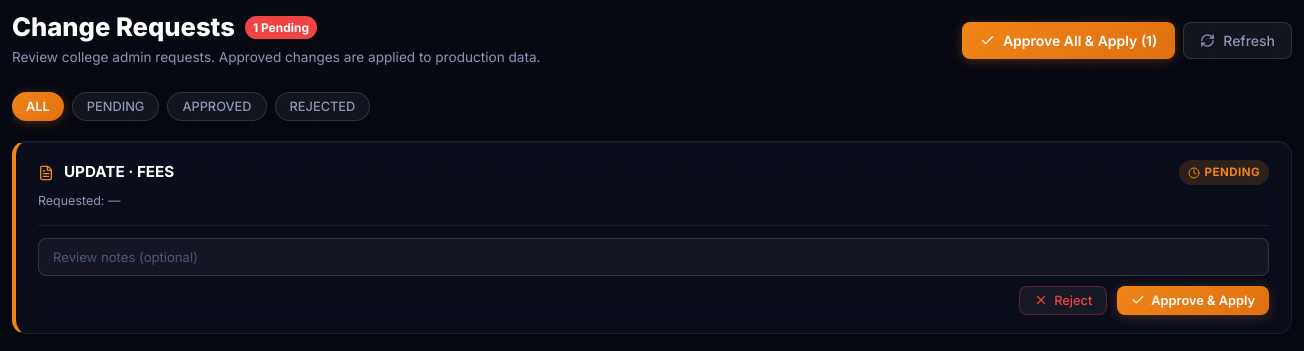
Scenario: ChangeRequestsView review controls › submits the exact approval API with the request id and refreshes processed state
Click the button "Approve & Apply". click: click(1193, 300)
box: [1117,286,1269,315]
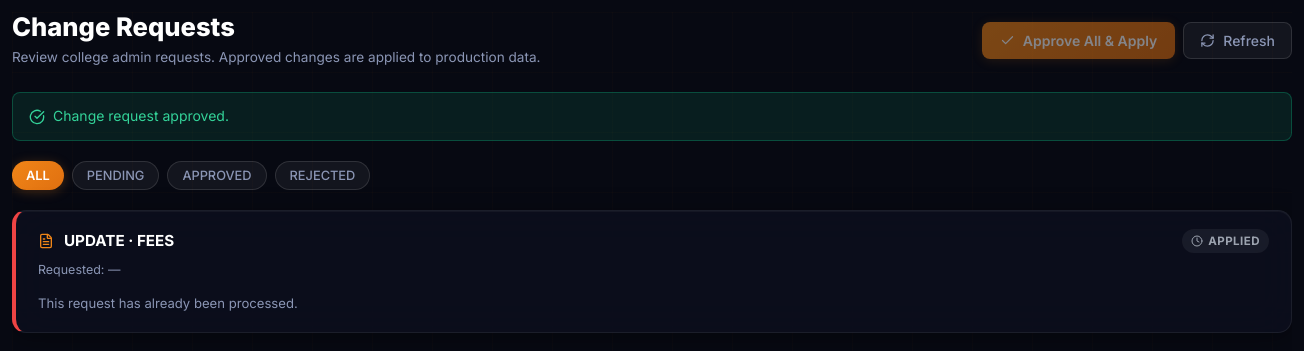
Expected: the button "Approve & Apply" is gone
Expected: the text "This request has already been processed." is shown, [38,295,298,311]
